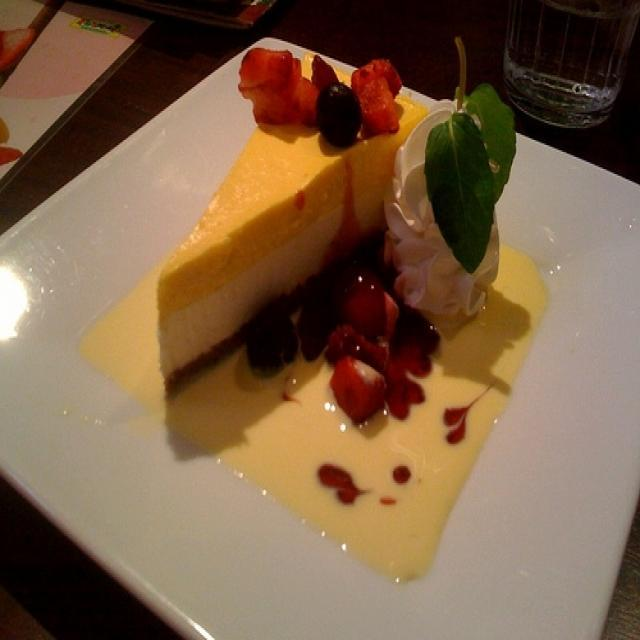Rare cheese cake: (113, 41, 521, 511)
